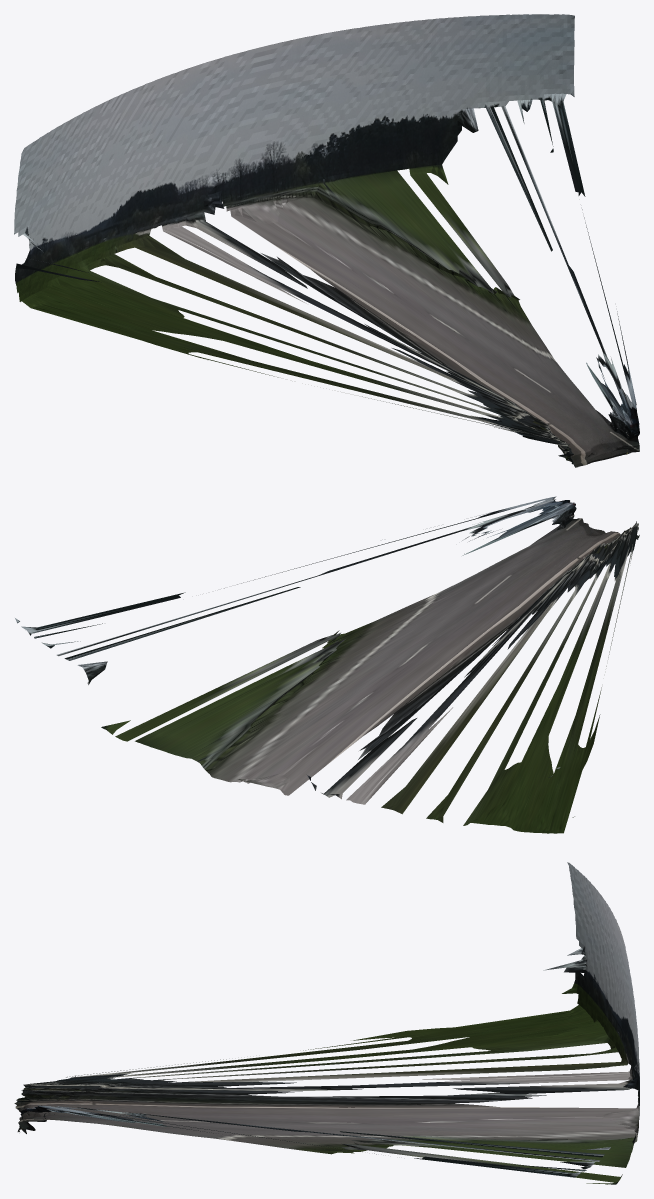
3 views of the same model, one above another, from view 1: azimuth 30°, elevation 25°; view 2: azimuth 150°, elevation 25°; view 3: azimuth 270°, elevation 25° (orthographic). The views are drawn at different scales.
Parts seen in each view (by area): view 1: defaultobject; view 2: defaultobject; view 3: defaultobject.
Part boxes in pixels (x1,y1,x2,y2): defaultobject: (14,14,639,467); defaultobject: (15,496,639,833); defaultobject: (14,862,639,1184).
Bounding box in the file's own units: 41.08 × 12.16 × 44.58.
Materials: 1 (1 with a texture image).
